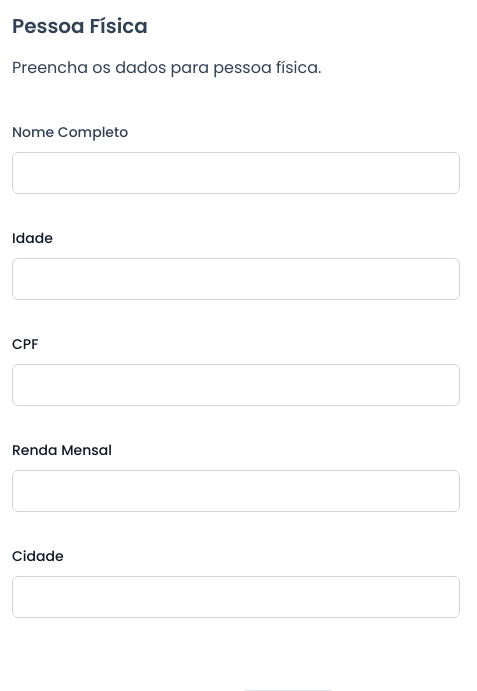
Test: NaturalForm › input validations › should render an error when age under 18
Type "17" into the number field labelled "Idade".
click(236, 279); type("17")  # box [12,258,460,300]
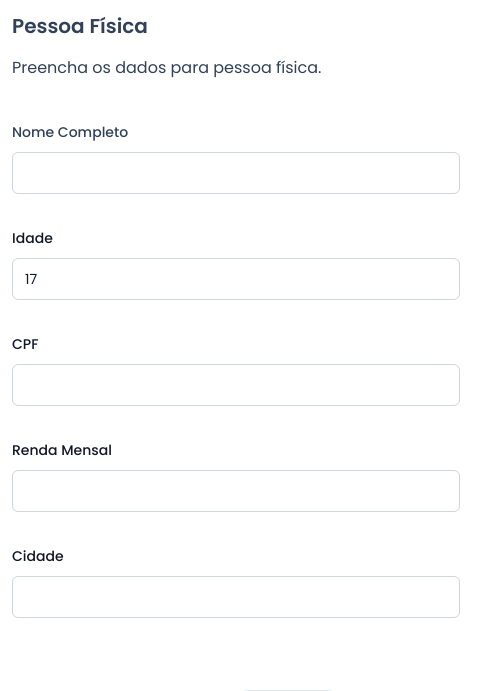
Leave the number field labelled "Idade", box [12,258,460,300]
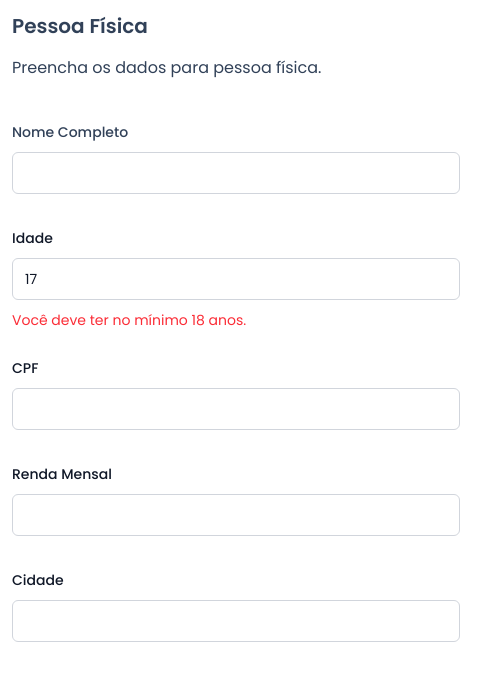
Check: the text "Você deve ter no mínimo 18 anos." is shown, box [12,310,246,330]
